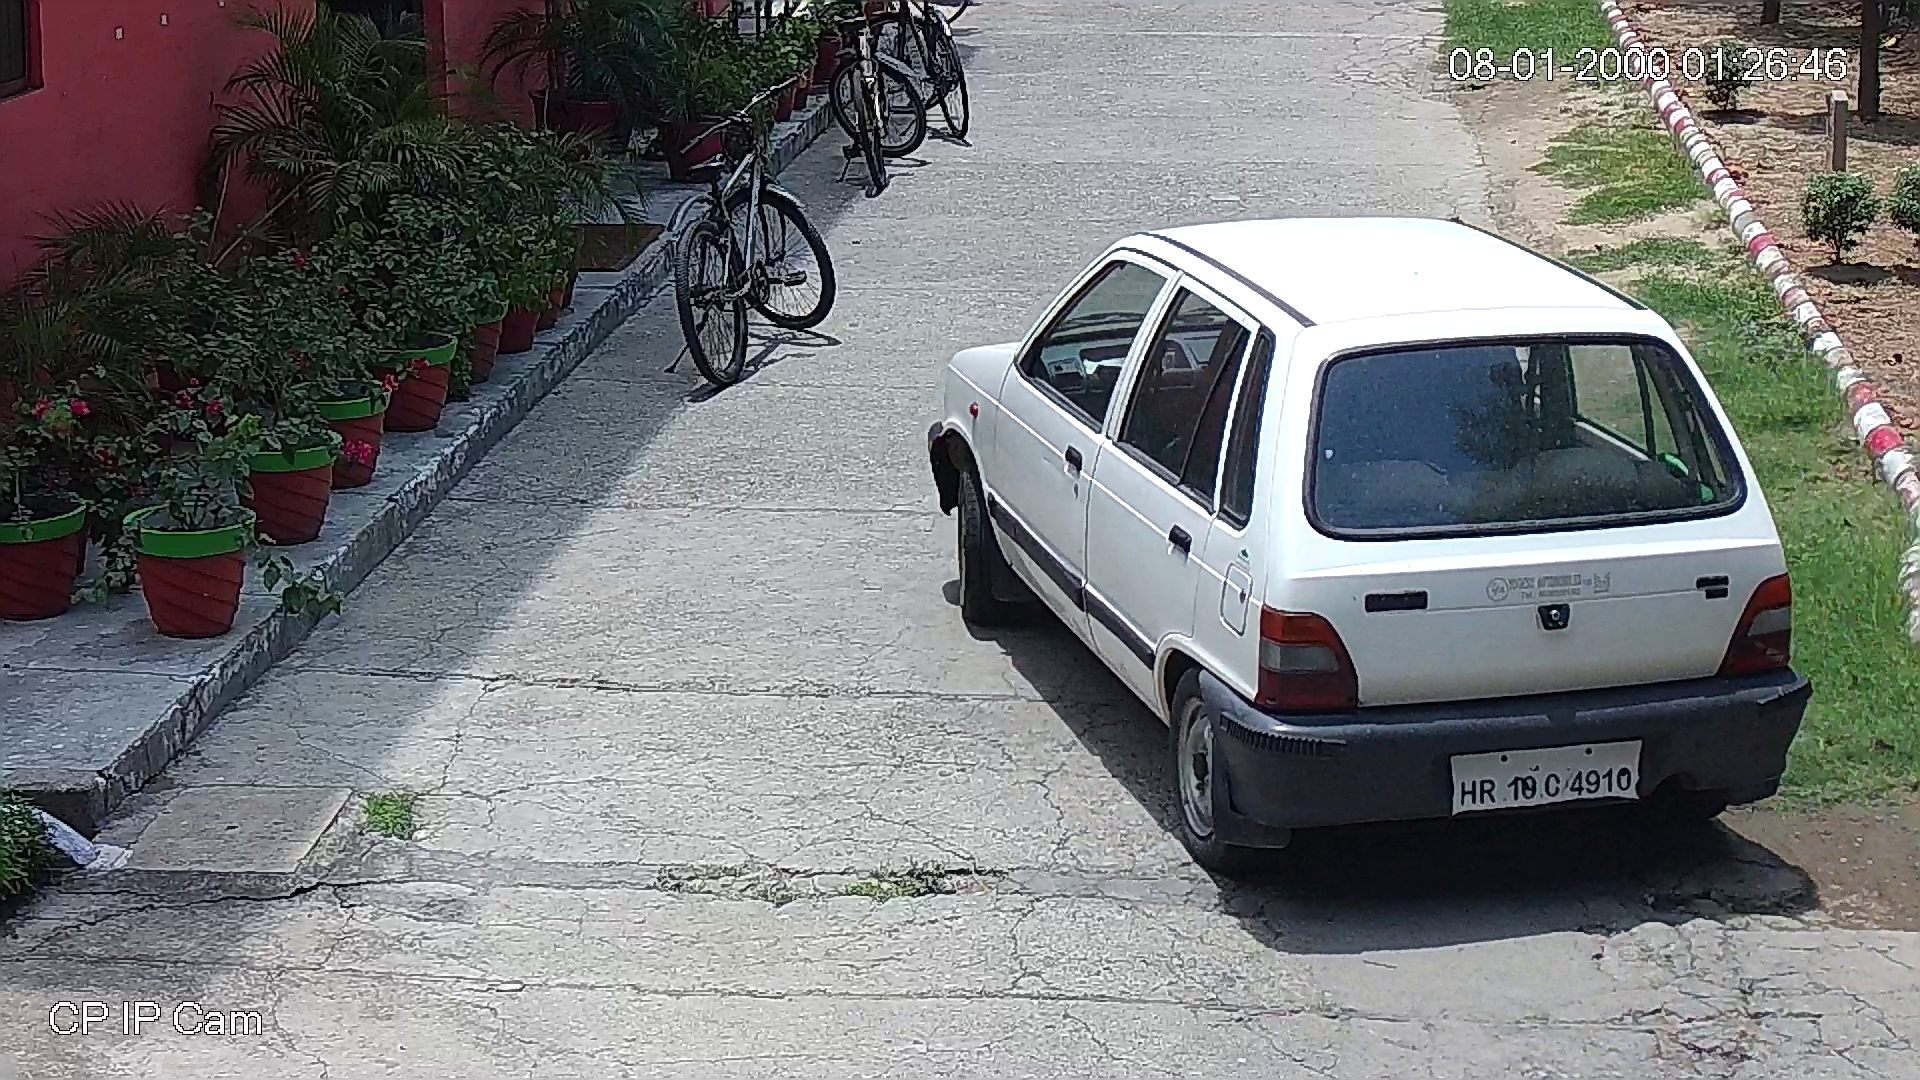plate: (1446, 734, 1649, 823)
